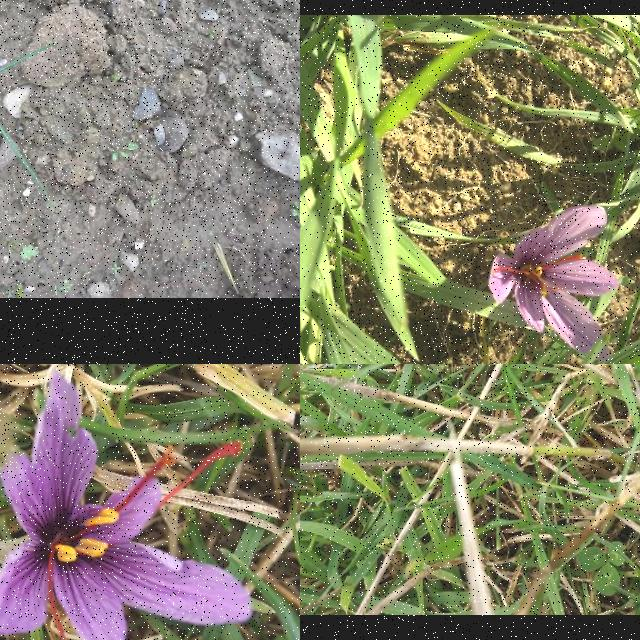flower: (0, 368, 252, 640), (489, 206, 619, 360)
